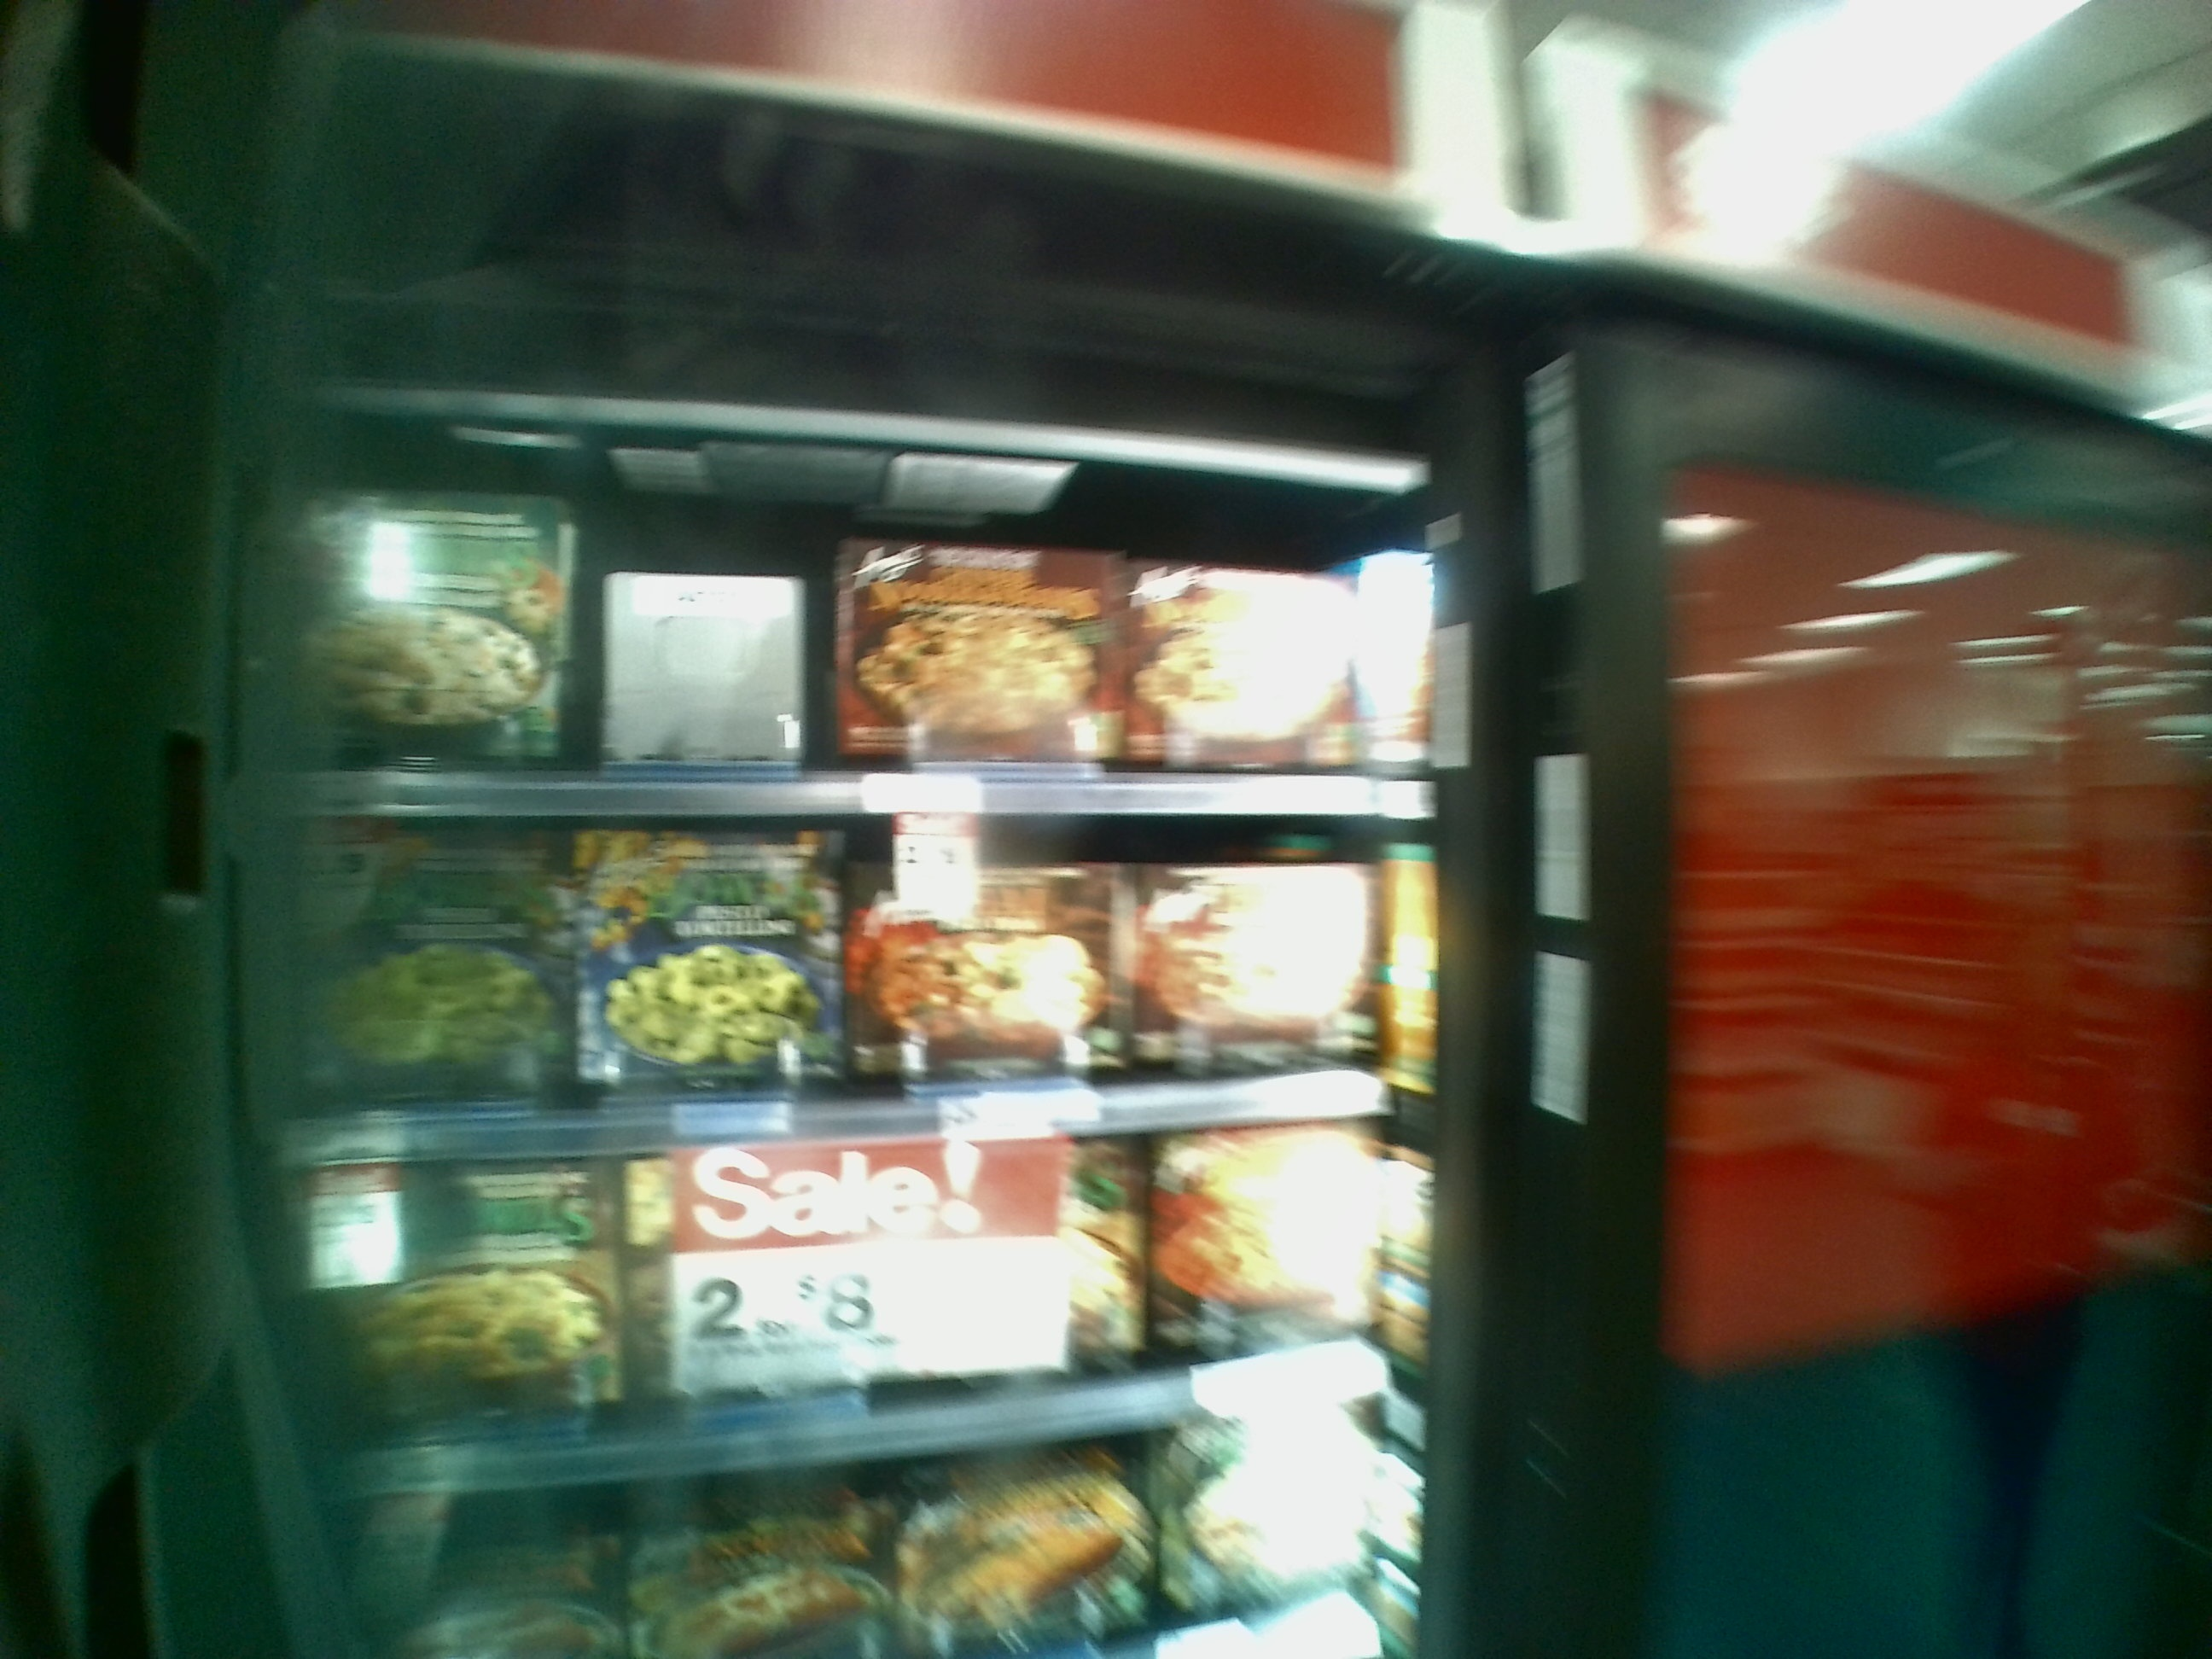shelf: (273, 420, 1426, 819), (296, 1147, 1426, 1483), (279, 823, 1416, 1141)
